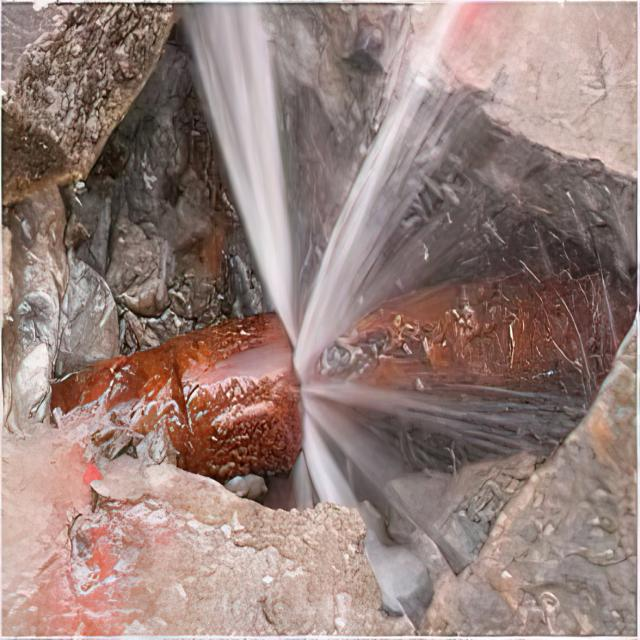leak: (173, 0, 640, 627)
